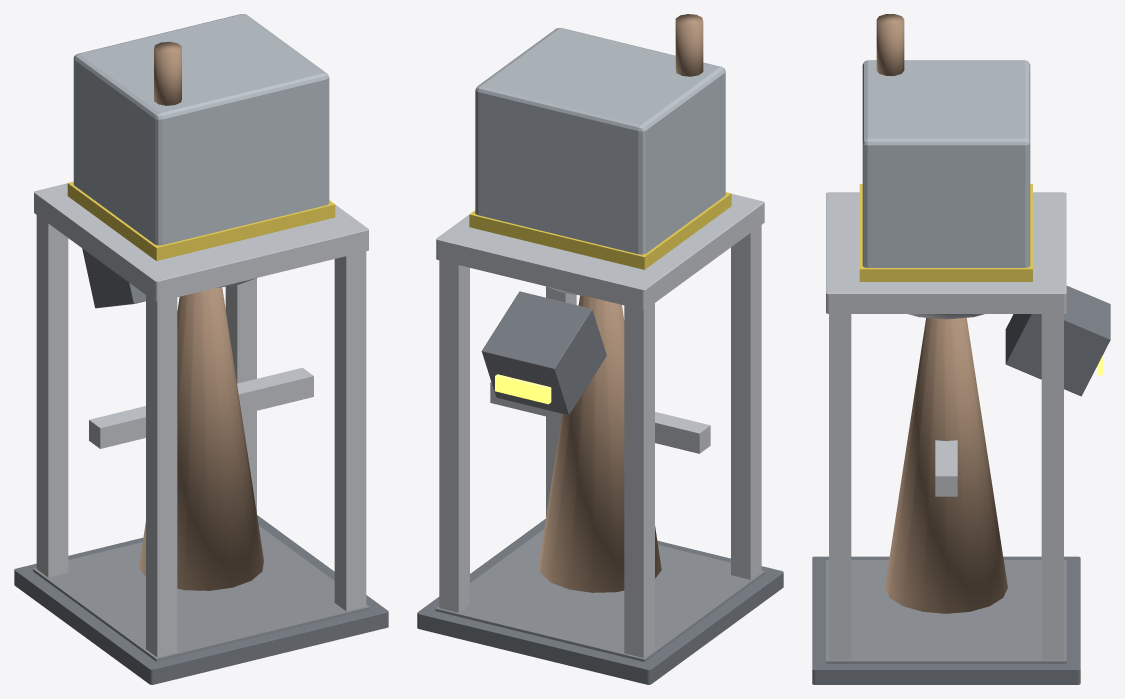
The model's file is miner.glb.
The picture shows the model from 3 angles, left to right: view 1: azimuth 30°, elevation 25°; view 2: azimuth 150°, elevation 25°; view 3: azimuth 270°, elevation 25°; orthographic projection. The views are drawn at different scales.
Visible parts, largest first — view 1: head, drill, base_grate, frame_top, leg.002, leg.001, leg, base, frame_mid, head_hazard, leg.003, chute (+1 smaller); view 2: head, drill, base_grate, frame_top, leg.001, leg.003, leg, base, chute, head_hazard, frame_mid, exhaust (+2 smaller); view 3: head, drill, base_grate, frame_top, base, leg.002, leg.003, chute, head_hazard, exhaust, frame_mid.
Part boxes in pixels (x1=…): head: x1=73, y1=14, x2=329, y2=245; drill: x1=139, y1=287, x2=263, y2=590; base_grate: x1=33, y1=526, x2=369, y2=661; frame_top: x1=34, y1=183, x2=368, y2=301; leg.002: x1=334, y1=251, x2=366, y2=611; leg.001: x1=36, y1=215, x2=68, y2=577; leg: x1=146, y1=295, x2=177, y2=657; base: x1=14, y1=515, x2=388, y2=684; frame_mid: x1=89, y1=367, x2=313, y2=448; head_hazard: x1=67, y1=181, x2=335, y2=260; leg.003: x1=225, y1=278, x2=256, y2=512; chute: x1=82, y1=248, x2=145, y2=308; head: x1=475, y1=28, x2=725, y2=254; drill: x1=539, y1=295, x2=661, y2=592; base_grate: x1=435, y1=529, x2=765, y2=661; frame_top: x1=436, y1=194, x2=764, y2=309; leg.001: x1=624, y1=303, x2=654, y2=657; leg.003: x1=439, y1=260, x2=469, y2=612; leg: x1=731, y1=225, x2=761, y2=579; base: x1=417, y1=518, x2=783, y2=684; chute: x1=481, y1=291, x2=606, y2=415; head_hazard: x1=469, y1=192, x2=731, y2=269; frame_mid: x1=490, y1=382, x2=710, y2=453; exhaust: x1=675, y1=14, x2=703, y2=76; head: x1=862, y1=60, x2=1030, y2=267; drill: x1=885, y1=317, x2=1007, y2=613; base_grate: x1=826, y1=560, x2=1066, y2=663; frame_top: x1=826, y1=192, x2=1066, y2=313; base: x1=812, y1=556, x2=1080, y2=684; leg.002: x1=829, y1=314, x2=851, y2=660; leg.003: x1=1041, y1=314, x2=1063, y2=660; chute: x1=1005, y1=286, x2=1110, y2=396; head_hazard: x1=859, y1=184, x2=1032, y2=281; exhaust: x1=876, y1=14, x2=904, y2=75; frame_mid: x1=935, y1=440, x2=957, y2=496.
Bounding box in the file's own units: 0.96 × 2.29 × 1.07.
